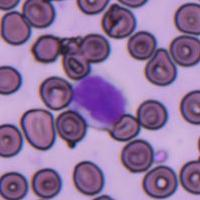M: (68, 72, 129, 129)
